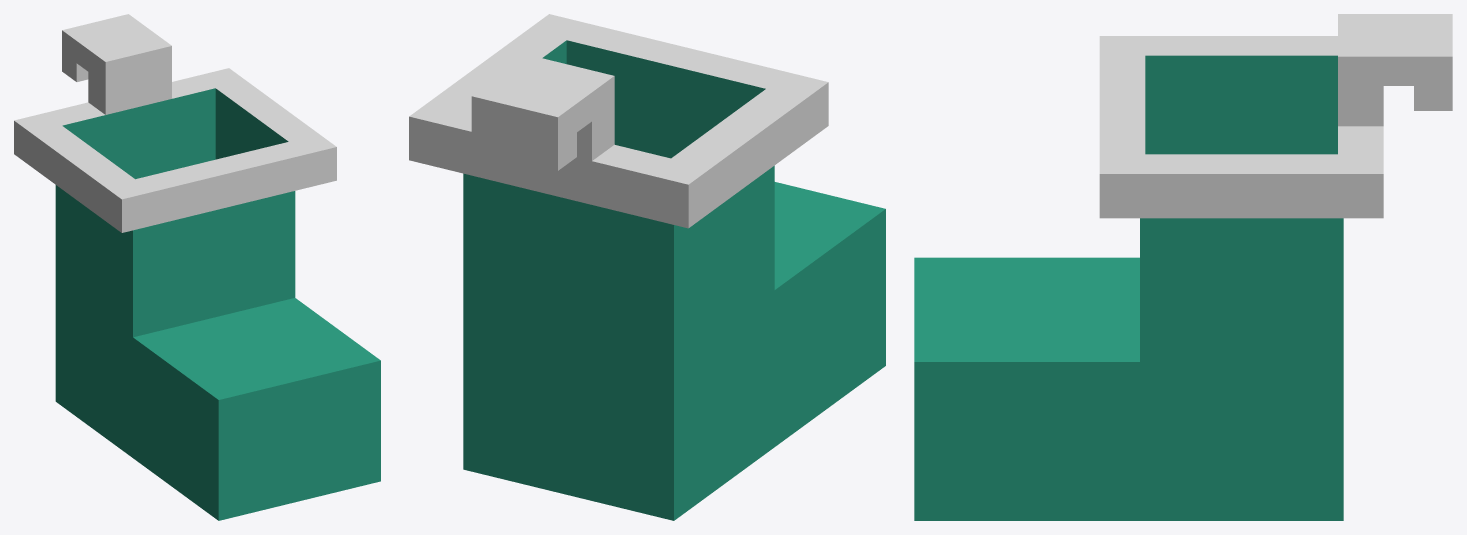
File: 038 Christmas_Socks.fbx
3 renders of one model, left to right at view 1: azimuth 30°, elevation 25°; view 2: azimuth 150°, elevation 25°; view 3: azimuth 270°, elevation 25°, orthographic. The views are drawn at different scales.
Parts seen in each view (by area): view 1: Lowpoly_Christmas_Pack_037:pCube3; view 2: Lowpoly_Christmas_Pack_037:pCube3; view 3: Lowpoly_Christmas_Pack_037:pCube3.
Part boxes in pixels (bbox=[...]): Lowpoly_Christmas_Pack_037:pCube3: bbox=[14, 14, 380, 520]; Lowpoly_Christmas_Pack_037:pCube3: bbox=[409, 14, 885, 520]; Lowpoly_Christmas_Pack_037:pCube3: bbox=[914, 14, 1452, 520].
Size of the model in its own units: 0.8142 by 1.19 by 1.34.
